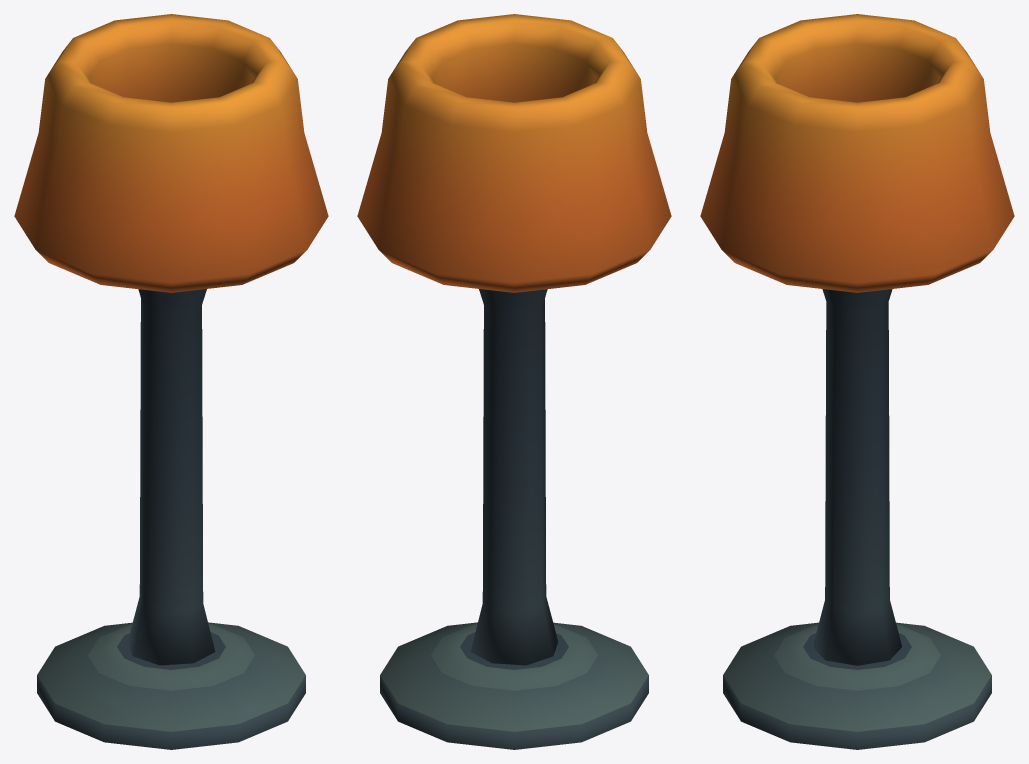
The model's file is lamp_standing_LOD_setup.fbx.
3 renders of one model, left to right at view 1: azimuth 30°, elevation 25°; view 2: azimuth 150°, elevation 25°; view 3: azimuth 270°, elevation 25°, orthographic.
Visible parts, largest first — view 1: lamp_standing_LOD0; view 2: lamp_standing_LOD0; view 3: lamp_standing_LOD0.
Part boxes in pixels (<box>): lamp_standing_LOD0: <box>14,14,328,749</box>; lamp_standing_LOD0: <box>357,14,671,749</box>; lamp_standing_LOD0: <box>700,14,1014,749</box>.
Size of what is drawn, in the model's own units: 73.18 by 162 by 73.18.
